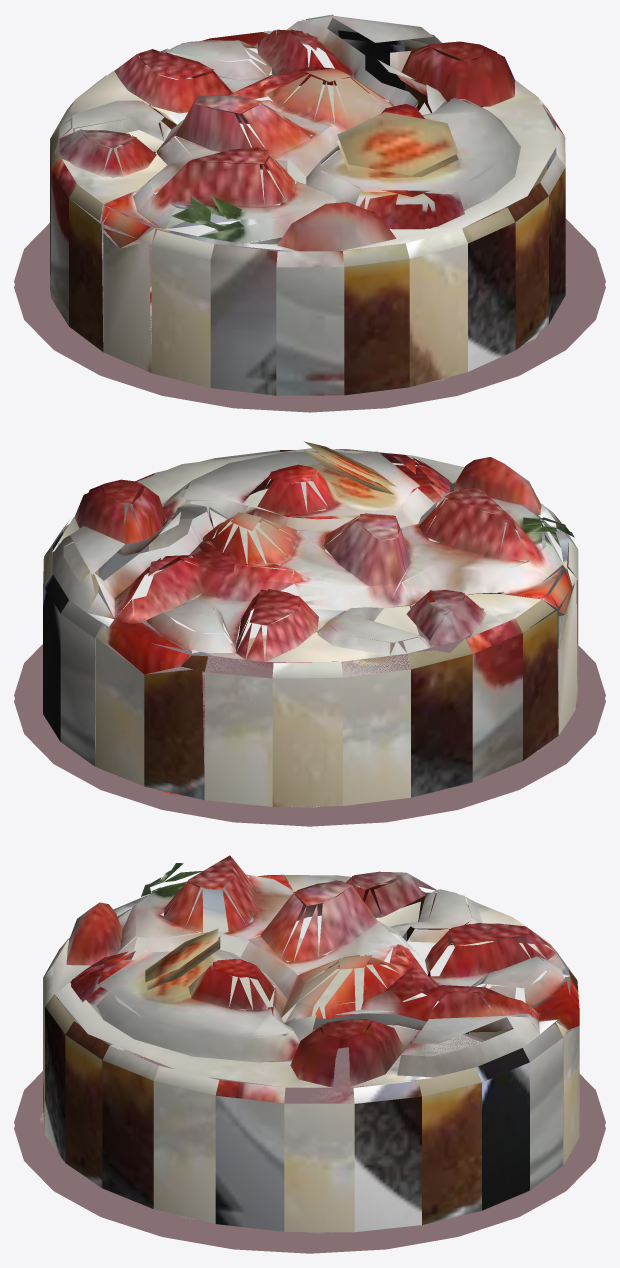
Rendered from pie-cream.glb.
3 renders of one model, top to bottom at view 1: azimuth 30°, elevation 25°; view 2: azimuth 150°, elevation 25°; view 3: azimuth 270°, elevation 25°, orthographic.
Parts seen in each view (by area): view 1: pie-cream; view 2: pie-cream; view 3: pie-cream.
Part boxes in pixels (x1,y1,x2,y2): pie-cream: (14,14,605,412); pie-cream: (14,441,605,826); pie-cream: (14,855,605,1253).
Size of the model in its own units: 0.2794 by 0.1053 by 0.2794.
Materials: 2 (1 with a texture image).
